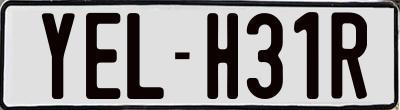1: (293, 10, 318, 101)
3: (245, 11, 282, 99)
E: (85, 12, 123, 98)
H: (204, 11, 235, 97)
L: (127, 13, 164, 99)
R: (329, 9, 368, 99)
Y: (40, 11, 73, 99)
